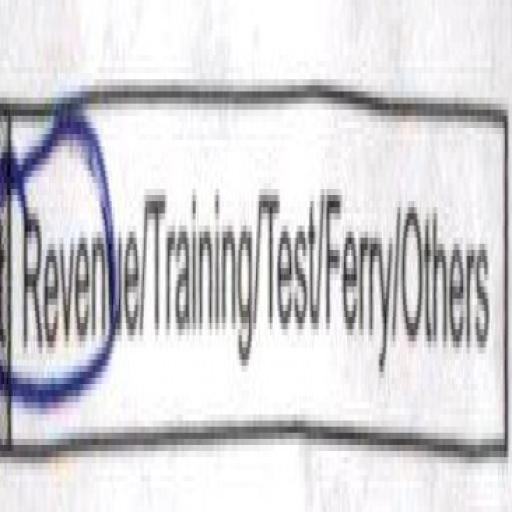check: (0, 49, 147, 445)
